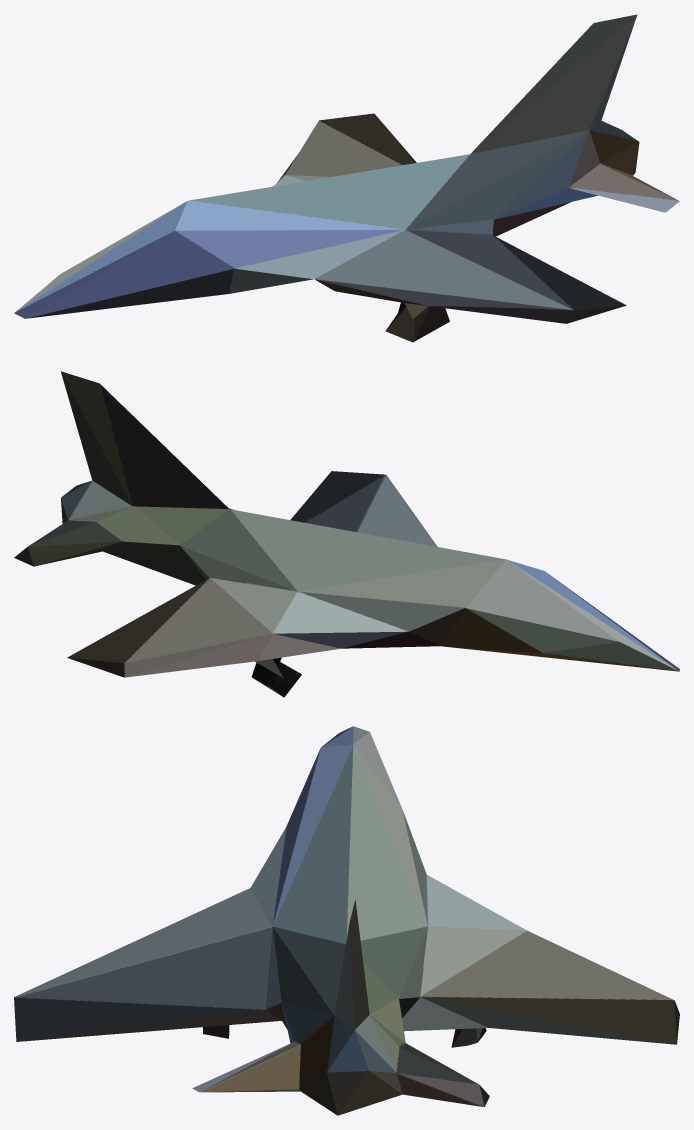
Rendered from jet.fbx.
3 renders of one model, top to bottom at view 1: azimuth 30°, elevation 25°; view 2: azimuth 150°, elevation 25°; view 3: azimuth 270°, elevation 25°, orthographic. The views are drawn at different scales.
Parts seen in each view (by area): view 1: Mesh_0; view 2: Mesh_0; view 3: Mesh_0.
Part boxes in pixels (x1=…): Mesh_0: x1=14, y1=14, x2=679, y2=342; Mesh_0: x1=14, y1=371, x2=679, y2=697; Mesh_0: x1=14, y1=726, x2=679, y2=1115.
Bounding box in the file's own units: 119 × 41.47 × 86.34.
1 material, 1 textured.
